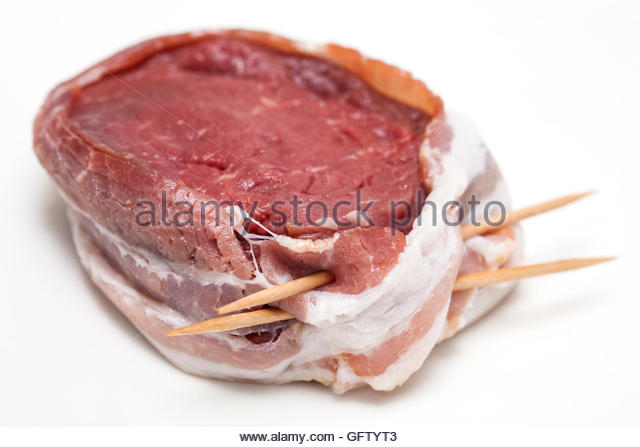bacon: (65, 24, 535, 387)
